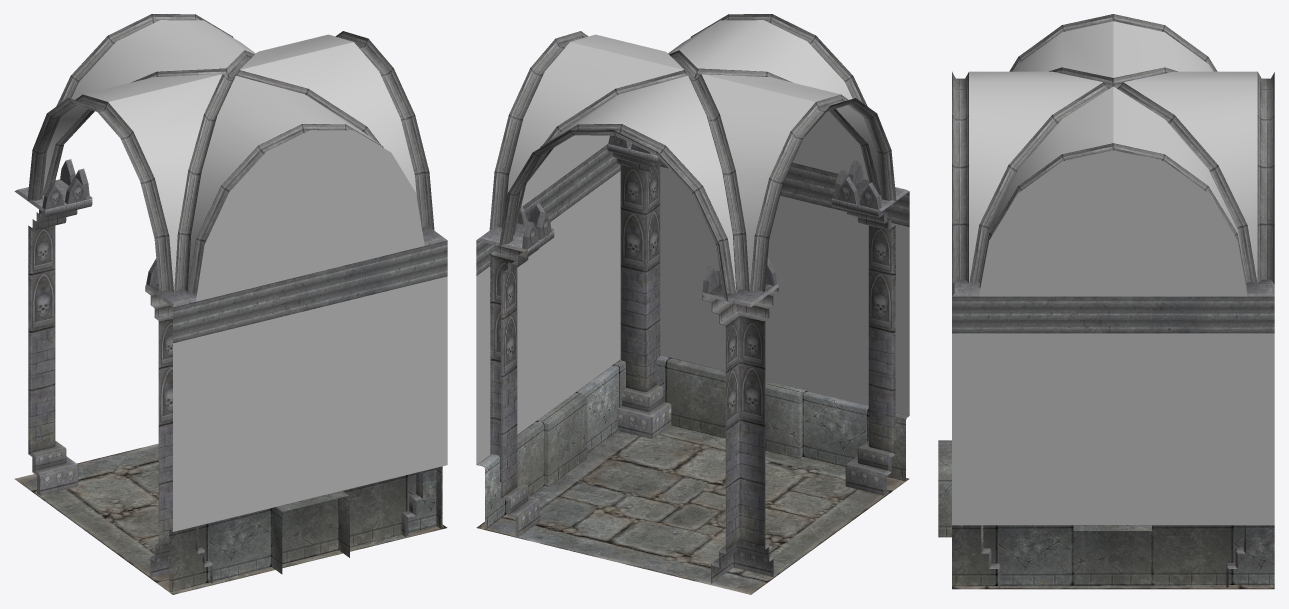
File: L_tunnel.FBX
3 renders of one model, left to right at view 1: azimuth 30°, elevation 25°; view 2: azimuth 150°, elevation 25°; view 3: azimuth 270°, elevation 25°, orthographic.
Visible parts, largest first — view 1: L_tunnel; view 2: L_tunnel; view 3: L_tunnel.
Part boxes in pixels (x1,y1,x2,y2): L_tunnel: (14,14,447,594); L_tunnel: (476,14,909,594); L_tunnel: (938,14,1274,589).
Bounding box in the file's own units: 521 × 750 × 521.
